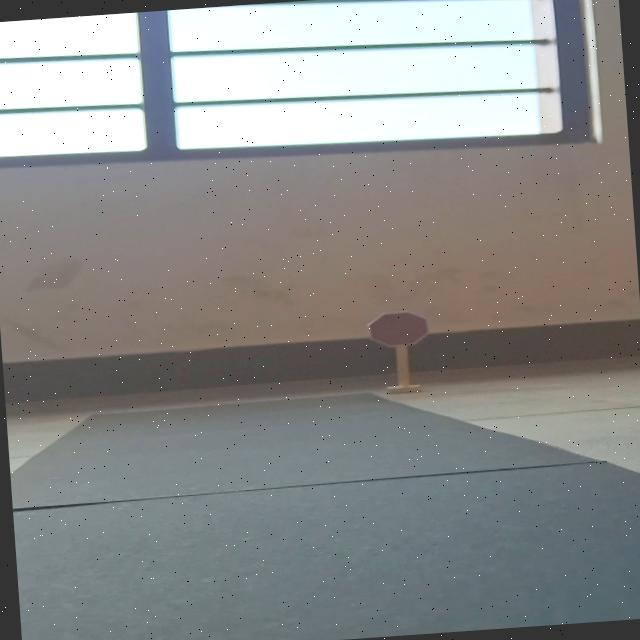Stop: (364, 308, 432, 349)
